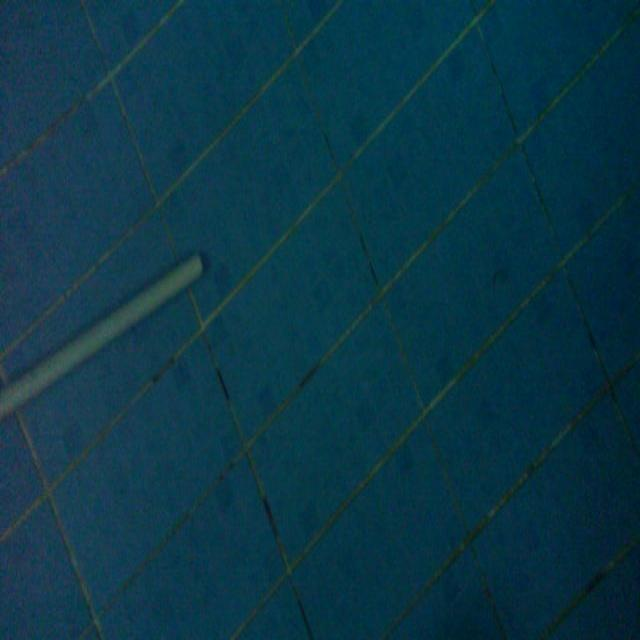Cube: (0, 247, 205, 427)
